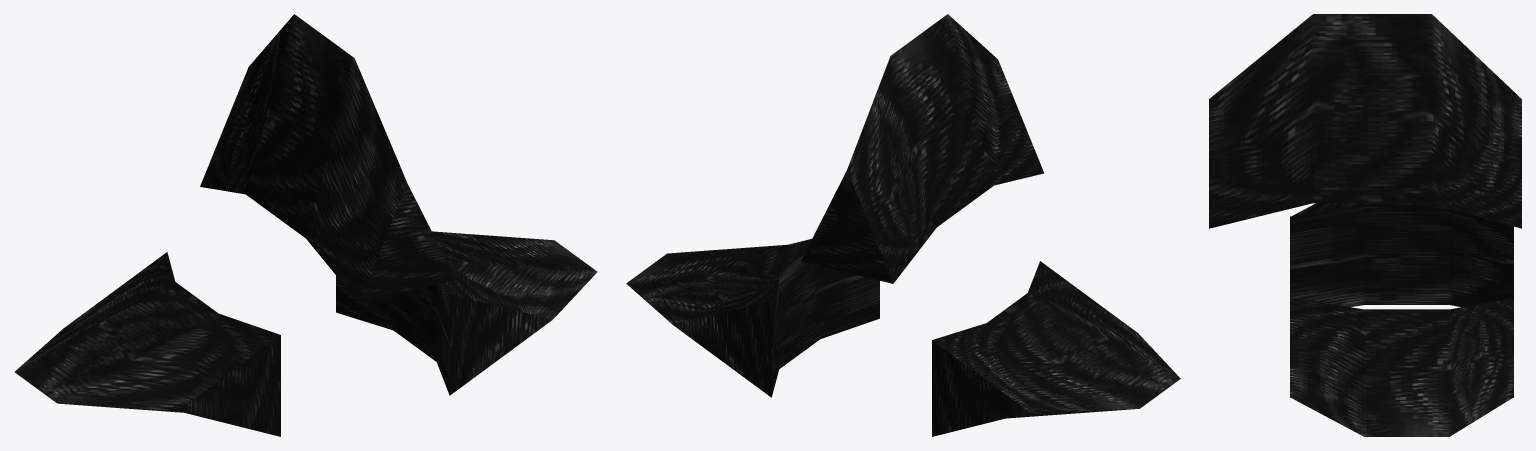
Rendered from hair_sao_male_02.dae.
The picture shows the model from 3 angles, left to right: view 1: azimuth 30°, elevation 25°; view 2: azimuth 150°, elevation 25°; view 3: azimuth 270°, elevation 25°; orthographic projection. The views are drawn at different scales.
Parts seen in each view (by area): view 1: a_hair_male_sao_02; view 2: a_hair_male_sao_02; view 3: a_hair_male_sao_02.
Part boxes in pixels (<box>): a_hair_male_sao_02: <box>14,14,597,436</box>; a_hair_male_sao_02: <box>626,14,1180,436</box>; a_hair_male_sao_02: <box>1209,14,1521,436</box>.
Bounding box in the file's own units: 0.8017 × 0.4083 × 0.4955.
